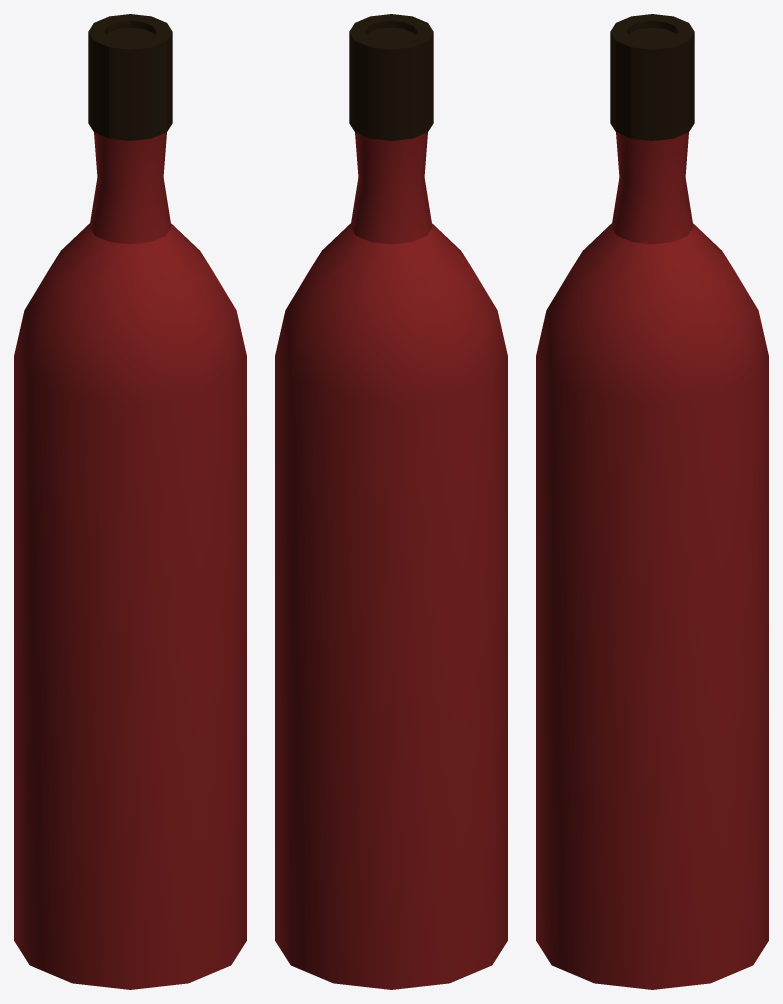
Rendered from Botella.fbx.
The picture shows the model from 3 angles, left to right: view 1: azimuth 30°, elevation 25°; view 2: azimuth 150°, elevation 25°; view 3: azimuth 270°, elevation 25°; orthographic projection.
Visible parts, largest first — view 1: Botella; view 2: Botella; view 3: Botella.
Part boxes in pixels (box(x1,y1,x2,y2)): Botella: box(14, 14, 246, 989); Botella: box(275, 14, 507, 989); Botella: box(536, 14, 768, 989).
Bounding box in the file's own units: 0.186 × 0.8014 × 0.186.
